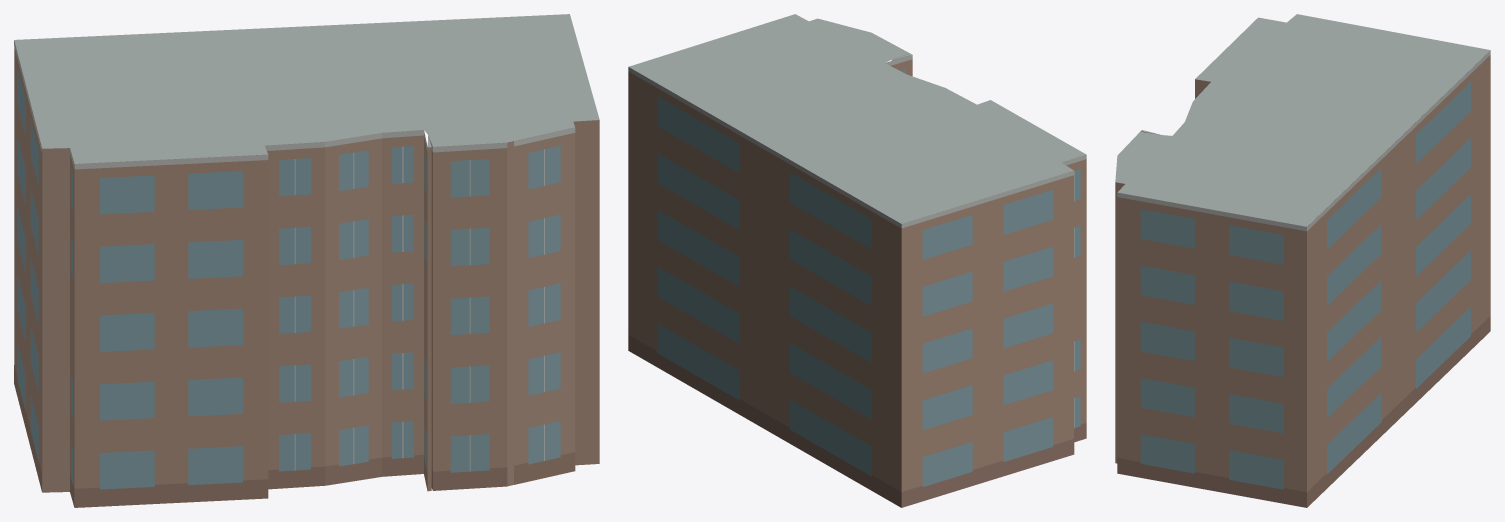
Rendered from survey-upis-32608362.glb.
The picture shows the model from 3 angles, left to right: view 1: azimuth 30°, elevation 25°; view 2: azimuth 150°, elevation 25°; view 3: azimuth 270°, elevation 25°; orthographic projection. The views are drawn at different scales.
Visible parts, largest first — view 1: survey-upis-32608362.tmp; view 2: survey-upis-32608362.tmp; view 3: survey-upis-32608362.tmp.
Part boxes in pixels (x1=…): survey-upis-32608362.tmp: x1=14, y1=14, x2=599, y2=507; survey-upis-32608362.tmp: x1=628, y1=14, x2=1086, y2=507; survey-upis-32608362.tmp: x1=1115, y1=14, x2=1490, y2=507.
Size of the model in its own units: 24.78 by 15.25 by 18.47.
